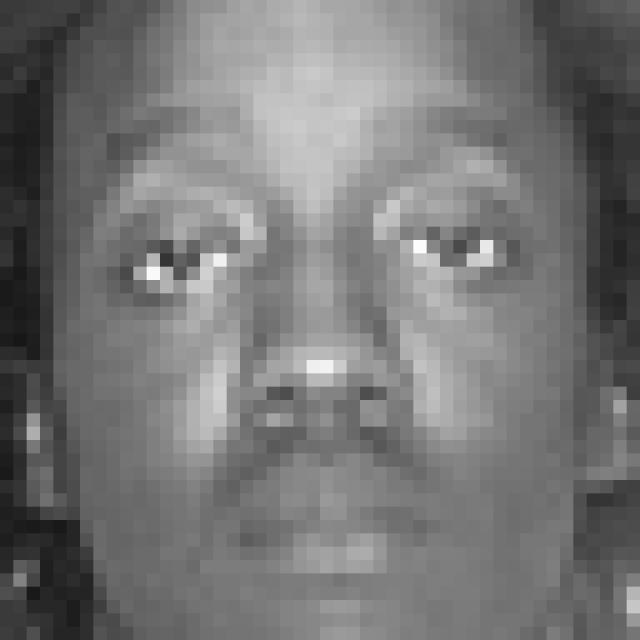neutral: (94, 94, 554, 593)
